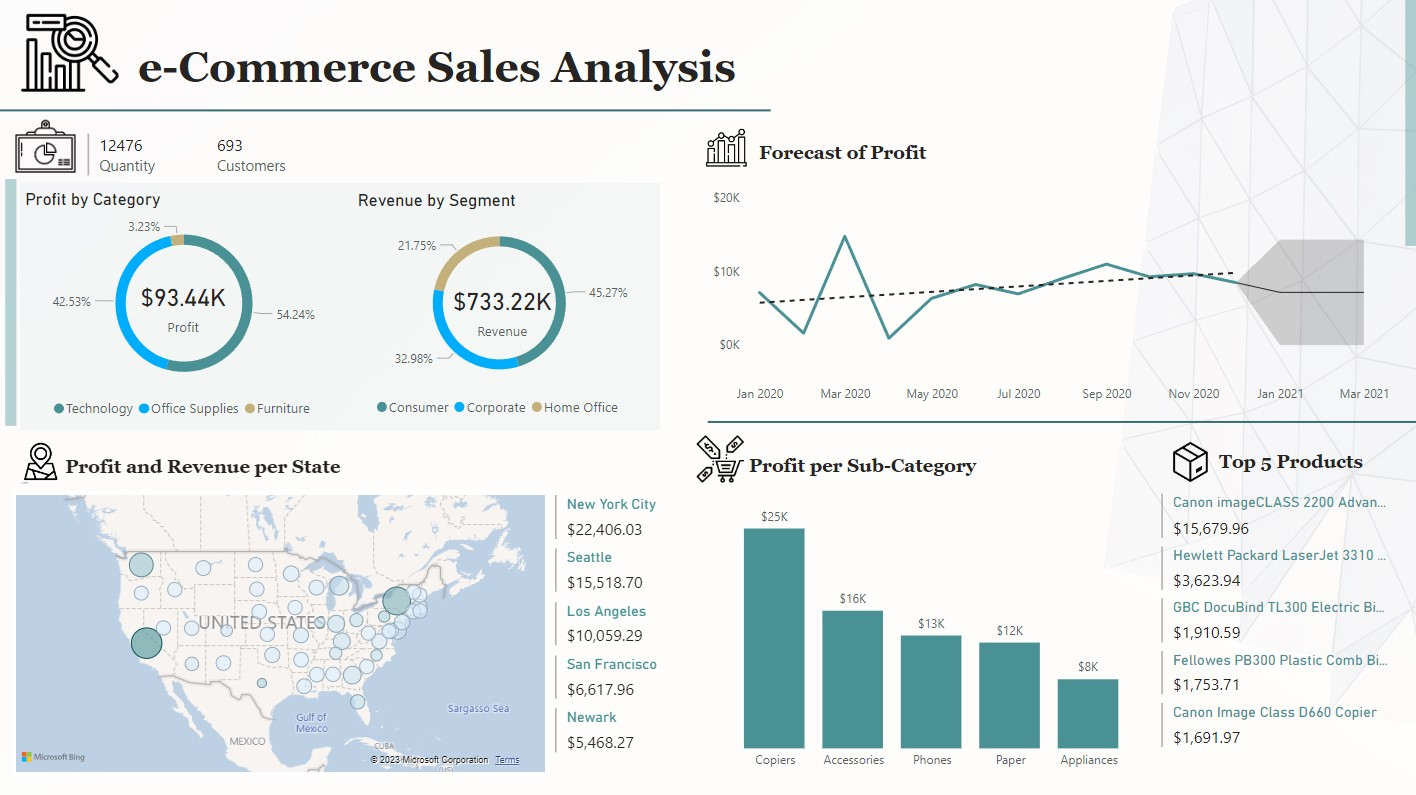

Layout of this report page (visuals, bound fields, positions):
{"tool":"powerbi","page":{"name":"Page 1","canvas":[1420,800],"ordinal":0},"visuals":[{"type":"shape","box":[20.8,183.8,640.8,247.7],"z":0},{"type":"donutChart","fields":{"Category":["eCommerce.Category"],"Y":["Sum(eCommerce.Profit)"]},"box":[20.9,190.1,328,238.8],"z":0,"group":"g3"},{"type":"lineChart","fields":{"Y":["Sum(eCommerce.Profit)"],"Category":["Calendar.Date.Variation.Date Hierarchy.Year","Calendar.Date.Variation.Date Hierarchy.Month"]},"box":[710,185.7,688.6,228.6],"z":1000},{"type":"multiRowCard","fields":{"Values":["Sum(eCommerce.Quantity)","eCommerce.Customer ID"]},"box":[84.3,130,257.1,54.3],"z":2000},{"type":"group","id":"g1","title":"Group 3","box":[12.9,491.4,539.1,286.9],"z":2000,"group":"g6"},{"type":"map","title":"Revenue by State","fields":{"Category":["eCommerce.State","eCommerce.City"],"Size":["Sum(eCommerce.Profit)"]},"box":[12.9,491.4,539.1,286.9],"z":2000,"group":"g1"},{"type":"textbox","box":[756,139.2,255.2,32.3],"z":3000,"group":"g2"},{"type":"shape","box":[710,414.3,710,18.6],"z":3000},{"type":"textbox","box":[1217,448.9,164.3,32.9],"z":3000,"group":"g8"},{"type":"textbox","box":[746.5,452.4,262.9,35.7],"z":3000,"group":"g7"},{"type":"textbox","box":[60.6,453.1,298.6,34.3],"z":3000,"group":"g9"},{"type":"multiRowCard","fields":{"Values":["eCommerce.City","Sum(eCommerce.Profit)"]},"box":[552,491.4,127.6,297],"z":3000,"group":"g6"},{"type":"group","id":"g2","title":"Group 1","box":[696.8,117.4,314.3,62.9],"z":4000},{"type":"clusteredColumnChart","fields":{"Category":["eCommerce.Sub Category"],"Y":["Sum(eCommerce.Profit)"]},"box":[710,490.8,450,290],"z":4000,"group":"g5"},{"type":"group","id":"g3","title":"Group 4","box":[20.9,190.1,328,238.8],"z":5000},{"type":"group","id":"g4","title":"Group 5","box":[354.3,192,293.7,236],"z":6000},{"type":"pieChart","fields":{"Category":["eCommerce.Segment"],"Y":["Sum(eCommerce.Sales)"]},"box":[354.3,192,293.7,236],"z":6000,"group":"g4"},{"type":"card","fields":{"Values":["Sum(eCommerce.Profit)"]},"box":[124.3,264.3,118.9,85.6],"z":7000,"group":"g3"},{"type":"group","id":"g5","title":"Group 6","box":[710,490.8,688.6,290.3],"z":7000},{"type":"multiRowCard","fields":{"Values":["eCommerce.Product Name","Sum(eCommerce.Profit)"]},"box":[1160,491.1,238.6,290],"z":7000,"group":"g5"},{"type":"card","fields":{"Values":["Sum(eCommerce.Sales)"]},"box":[444.3,268.8,119.4,86.4],"z":8000,"group":"g4"},{"type":"group","id":"g6","title":"Group 7","box":[12.9,491.4,665.7,295.7],"z":8000},{"type":"image","box":[683.6,431,77.1,64.3],"z":8002,"group":"g7"},{"type":"group","id":"g7","title":"Group 8","box":[683.6,431,325.7,64.3],"z":9000},{"type":"group","id":"g8","title":"Group 9","box":[1158.4,436,222.9,67.1],"z":10000},{"type":"image","box":[1158.4,436,70,67.1],"z":10001,"group":"g8"},{"type":"shape","box":[0,105.7,772.9,12.9],"z":11000},{"type":"image","box":[696.8,117.4,62.9,62.9],"z":11001,"group":"g2"},{"type":"image","box":[12,436,58.6,64.3],"z":11003,"group":"g9"},{"type":"image","box":[12.9,0,117.1,107.1],"z":12000},{"type":"group","id":"g9","title":"Group 2","box":[12,436,347.1,64.3],"z":13000},{"type":"image","box":[0,101.4,92.9,95.7],"z":14000},{"type":"textbox","box":[134.3,38.6,627.1,68.6],"z":15000},{"type":"shape","box":[5.7,180,11.4,247.1],"z":16000},{"type":"shape","box":[1408.6,0,11.4,247.1],"z":17000},{"type":"textbox","box":[811.4,36.1,586.9,87.7],"z":17001}]}

Visuals, with their boxes in screenshot pixels (x1, y1, x2, y2), scaled from the page's 1420x800 canvas onto the 1416x795 screenshot:
shape: region(21, 183, 660, 429)
donutChart - eCommerce.Category x Sum(eCommerce.Profit): region(21, 189, 348, 426)
lineChart - Sum(eCommerce.Profit) x Calendar.Date.Variation.Date Hierarchy.Year: region(708, 185, 1395, 412)
multiRowCard - Sum(eCommerce.Quantity) x eCommerce.Customer ID: region(84, 129, 340, 183)
"Group 3" group: region(13, 488, 550, 773)
"Revenue by State" map: region(13, 488, 550, 773)
textbox: region(754, 138, 1008, 170)
shape: region(708, 412, 1415, 430)
textbox: region(1214, 446, 1377, 479)
textbox: region(744, 450, 1007, 485)
textbox: region(60, 450, 358, 484)
multiRowCard - eCommerce.City x Sum(eCommerce.Profit): region(550, 488, 678, 783)
"Group 1" group: region(695, 117, 1008, 179)
clusteredColumnChart - eCommerce.Sub Category x Sum(eCommerce.Profit): region(708, 488, 1157, 776)
"Group 4" group: region(21, 189, 348, 426)
"Group 5" group: region(353, 191, 646, 425)
pieChart - eCommerce.Segment x Sum(eCommerce.Sales): region(353, 191, 646, 425)
card - Sum(eCommerce.Profit): region(124, 263, 243, 348)
"Group 6" group: region(708, 488, 1395, 776)
multiRowCard - eCommerce.Product Name x Sum(eCommerce.Profit): region(1157, 488, 1395, 776)
card - Sum(eCommerce.Sales): region(443, 267, 562, 353)
"Group 7" group: region(13, 488, 677, 782)
image: region(682, 428, 759, 492)
"Group 8" group: region(682, 428, 1006, 492)
"Group 9" group: region(1155, 433, 1377, 500)
image: region(1155, 433, 1225, 500)
shape: region(0, 105, 771, 118)
image: region(695, 117, 758, 179)
image: region(12, 433, 70, 497)
image: region(13, 0, 130, 106)
"Group 2" group: region(12, 433, 358, 497)
image: region(0, 101, 93, 196)
textbox: region(134, 38, 759, 107)
shape: region(6, 179, 17, 424)
shape: region(1405, 0, 1415, 246)
textbox: region(809, 36, 1394, 123)
